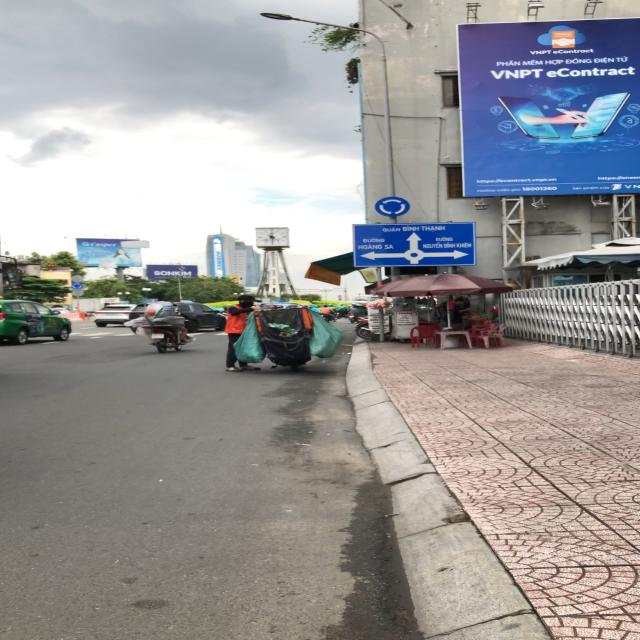Bien bao noi giao nhau chay theo vong xuyen: (372, 194, 414, 217), (70, 282, 84, 290)
